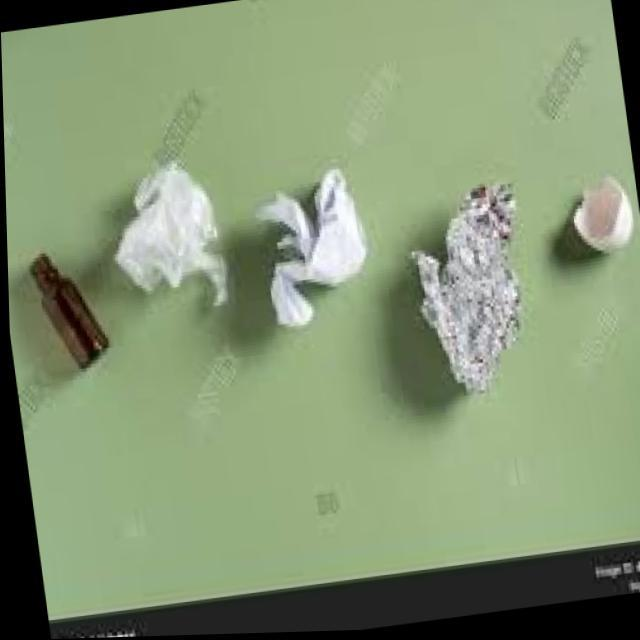clothes: (392, 132, 551, 404)
fabric: (557, 168, 640, 284)
foam box: (15, 232, 115, 372)
food: (256, 175, 380, 322)
leaf: (98, 162, 230, 312)
